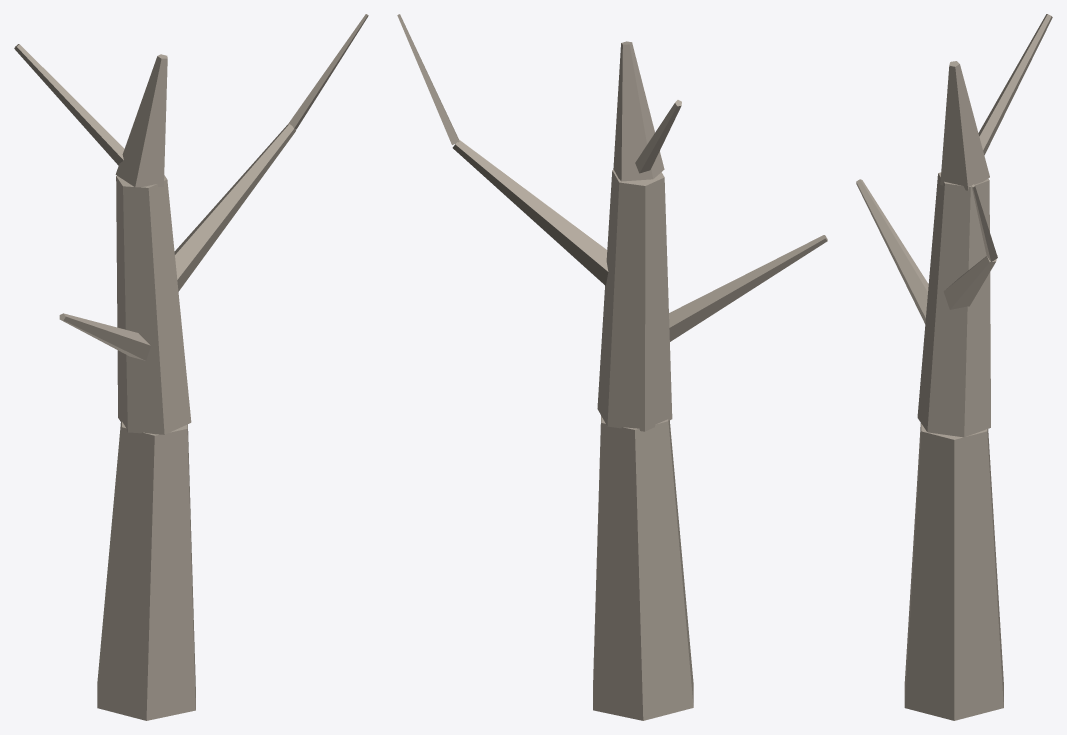
Rendered from baum_tot.glb.
3 views of the same model, side by side, from view 1: azimuth 30°, elevation 25°; view 2: azimuth 150°, elevation 25°; view 3: azimuth 270°, elevation 25° (orthographic). The views are drawn at different scales.
Visible parts, largest first — view 1: Tot_Stamm; view 2: Tot_Stamm; view 3: Tot_Stamm.
Part boxes in pixels (<box>): Tot_Stamm: <box>14,14,368,720</box>; Tot_Stamm: <box>397,14,827,720</box>; Tot_Stamm: <box>856,14,1052,720</box>.
Size of the model in its own units: 2.22 by 3.72 by 1.03.
